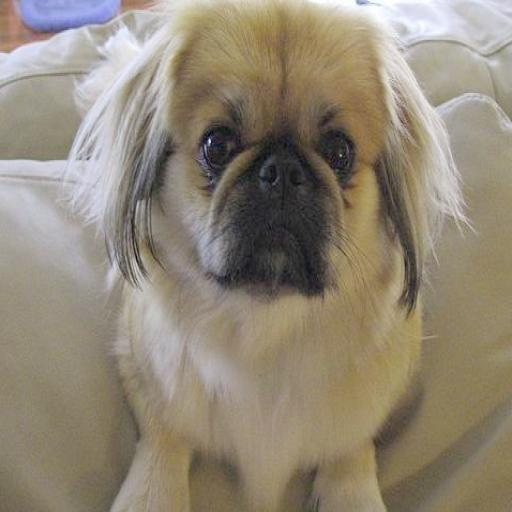dog_face: (87, 0, 438, 289)
